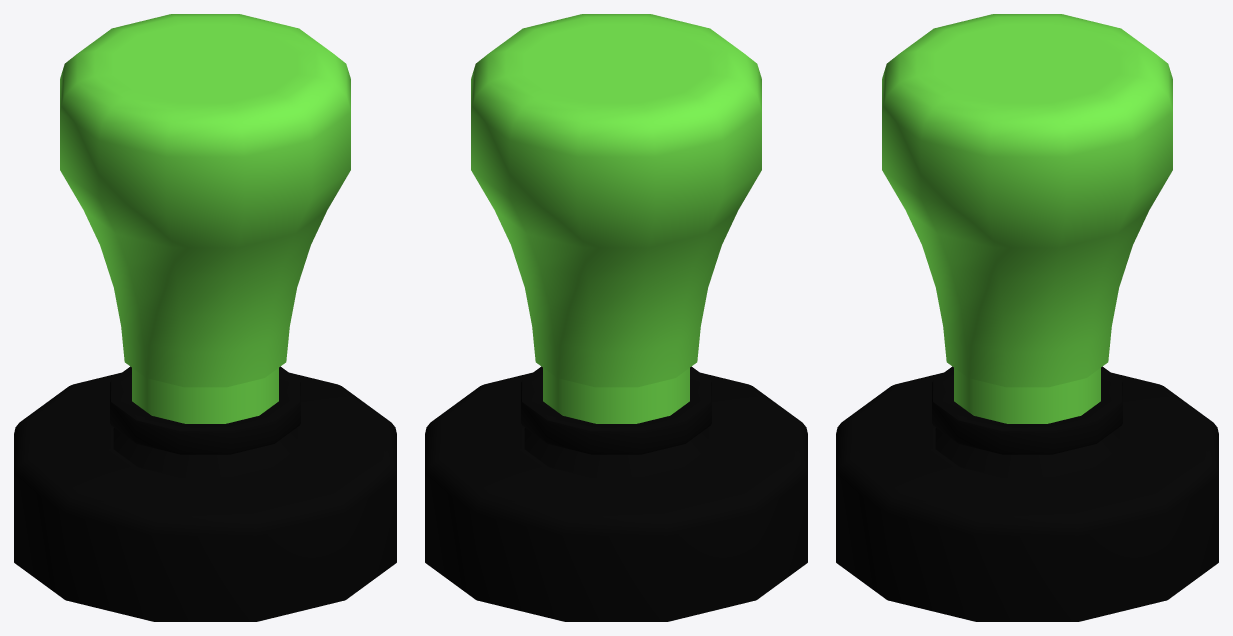
The model's file is StampleKinestetik.fbx.
3 renders of one model, left to right at view 1: azimuth 30°, elevation 25°; view 2: azimuth 150°, elevation 25°; view 3: azimuth 270°, elevation 25°, orthographic.
Visible parts, largest first — view 1: StampleKinestetik; view 2: StampleKinestetik; view 3: StampleKinestetik.
Part boxes in pixels (x1,y1,x2,y2): StampleKinestetik: (14,14,396,621); StampleKinestetik: (425,14,807,621); StampleKinestetik: (836,14,1218,621).
Size of the model in its own units: 4.17 by 5.77 by 4.17.
